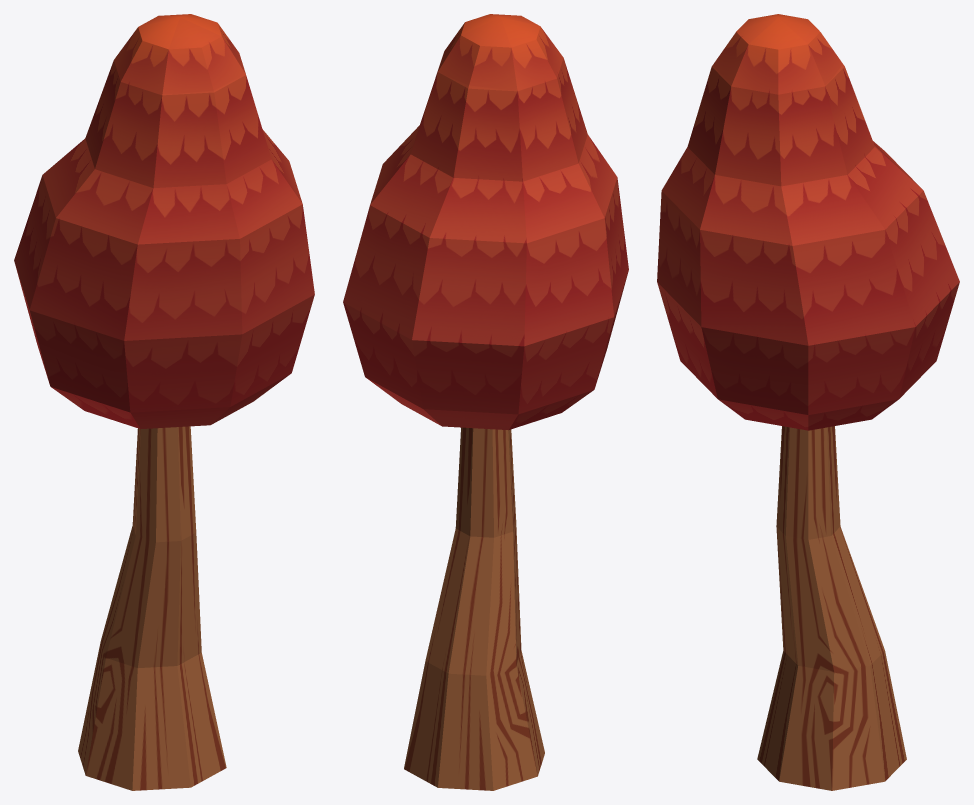
The model's file is Tree3.fbx.
3 views of the same model, side by side, from view 1: azimuth 30°, elevation 25°; view 2: azimuth 150°, elevation 25°; view 3: azimuth 270°, elevation 25° (orthographic). The views are drawn at different scales.
Parts seen in each view (by area): view 1: Tree3; view 2: Tree3; view 3: Tree3.
Part boxes in pixels (x1=…): Tree3: x1=14, y1=14, x2=314, y2=790; Tree3: x1=343, y1=14, x2=628, y2=790; Tree3: x1=657, y1=14, x2=959, y2=790.
Bounding box in the file's own units: 314 × 848 × 314.
